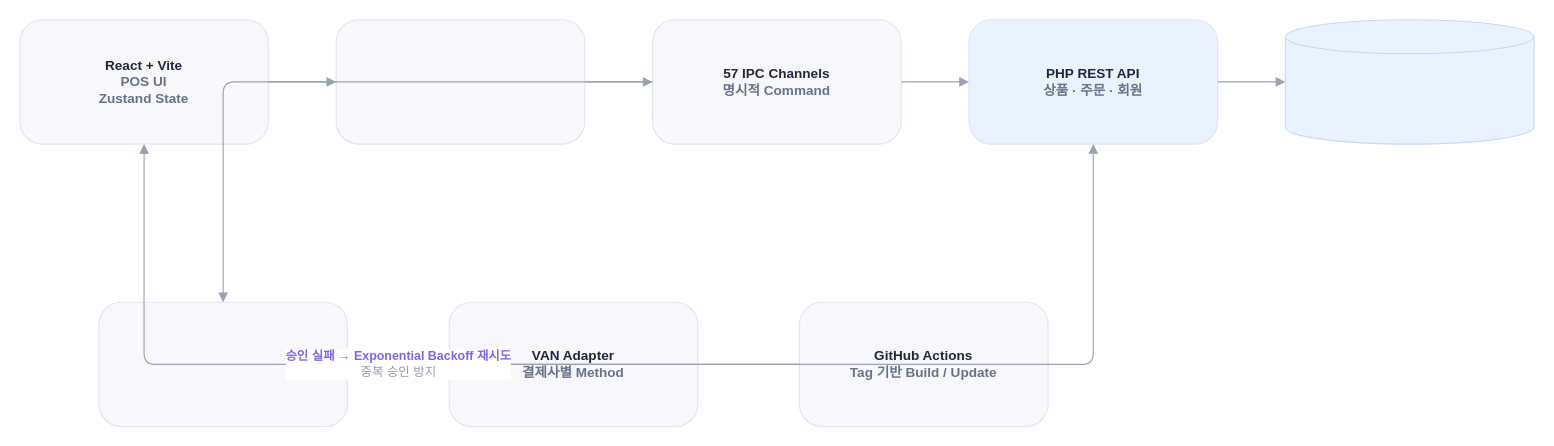
Some shapes in this 1554 by 446 pixel diagram are drawn without their labels. Each missing label, with the centre of its shape:
"MySQL 업무 데이터" belongs at (1409,81).
"Payment Queue 2단계 승인 재시도 / Backoff" belongs at (222,364).
"Preload IPC Whitelist" belongs at (460,81).
